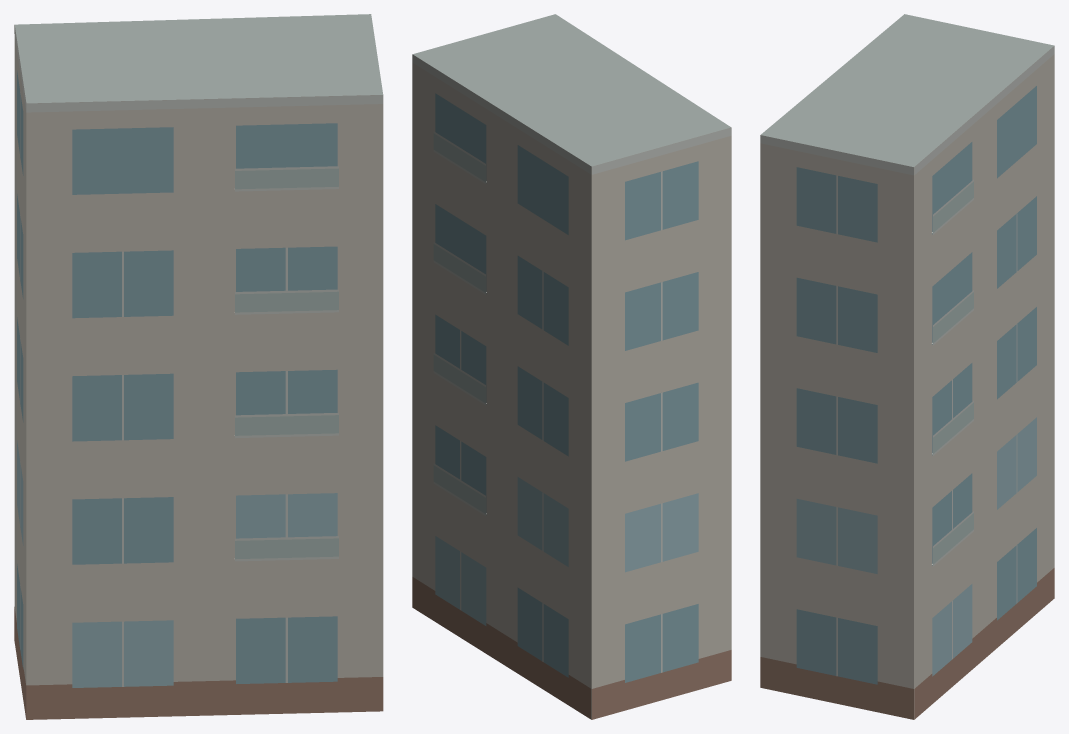
File: survey-upis-32727039.glb
3 views of the same model, side by side, from view 1: azimuth 30°, elevation 25°; view 2: azimuth 150°, elevation 25°; view 3: azimuth 270°, elevation 25° (orthographic). The views are drawn at different scales.
Visible parts, largest first — view 1: survey-upis-32727039.tmp; view 2: survey-upis-32727039.tmp; view 3: survey-upis-32727039.tmp.
Part boxes in pixels (left/top/right/bottom): survey-upis-32727039.tmp: left=14, top=14, right=383, bottom=719; survey-upis-32727039.tmp: left=412, top=14, right=731, bottom=719; survey-upis-32727039.tmp: left=760, top=14, right=1054, bottom=719.
Bounding box in the file's own units: 9.7 × 16.3 × 7.88.
